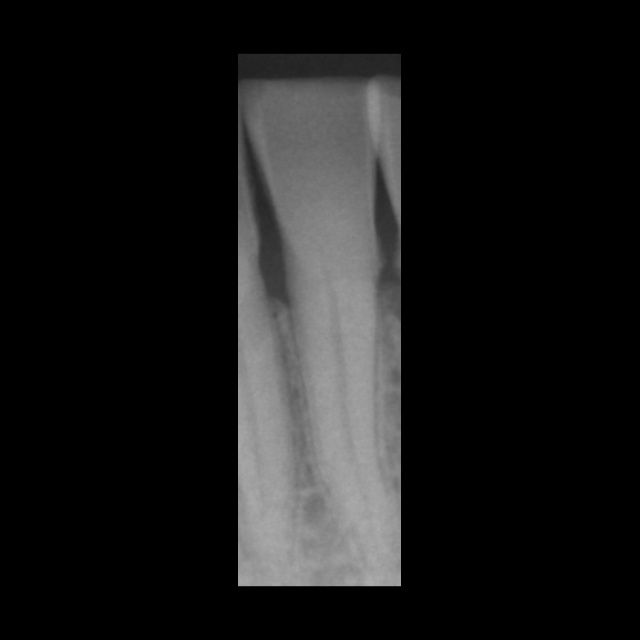tooth: (238, 75, 394, 573)
